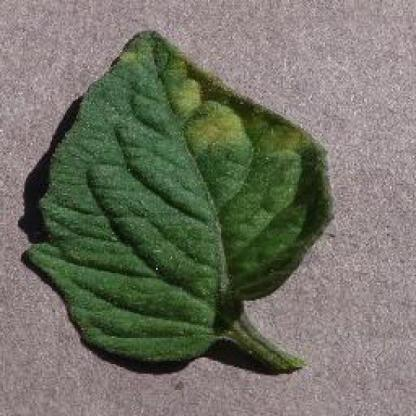Tomato_Leaf_Mold: (35, 32, 333, 328)
